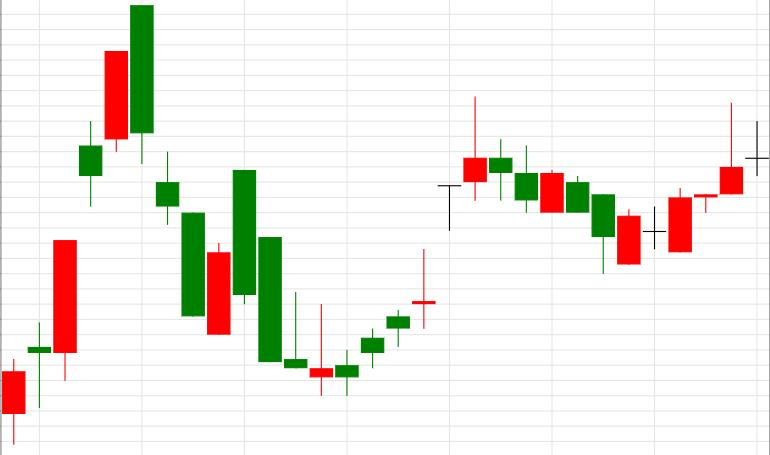bearish_engulfing_fall: (1, 5, 155, 444)
shooting_star_fall: (336, 96, 486, 397)
